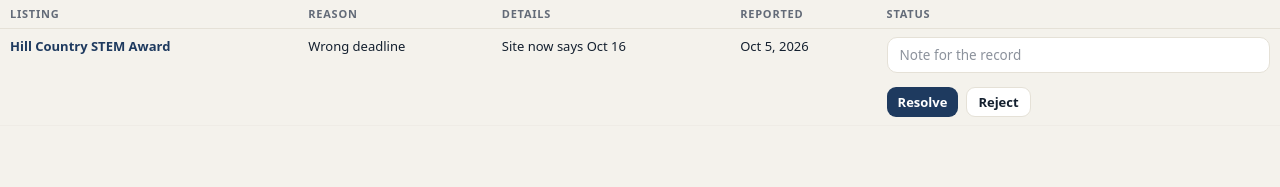
ReportsTable › shows a 409 as already closed: the message, disabled buttons, and a refresh (R3A-21)
Type "Deadline fixed" into the field named "Note for report on Hill Country STEM Award" at point(1078, 55), box [887,37,1270,73]
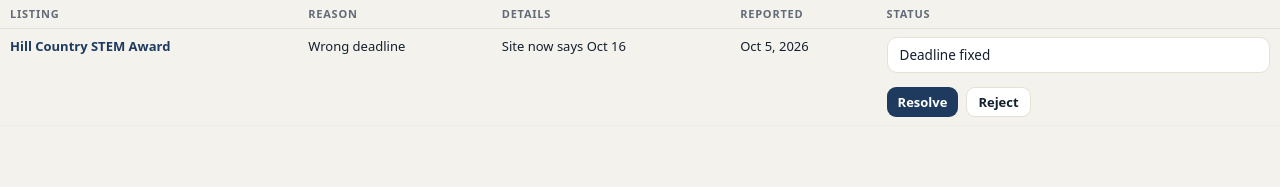
Click the button with aria-label "Reject report on Hill Country STEM Award" at point(999, 102), box [966,87,1031,117]
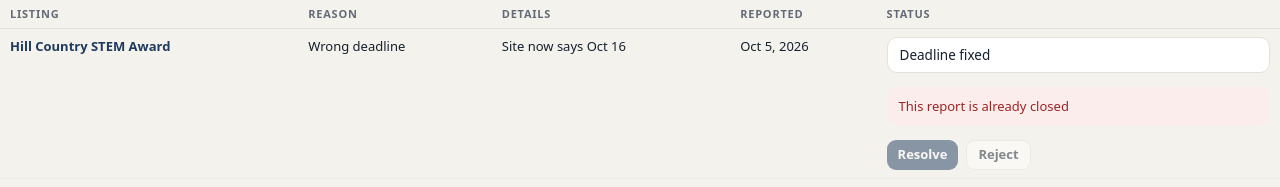
Result: the message reads "This report is already closed" at [899,97,1069,115]
Result: the button with aria-label "Resolve report on Hill Country STEM Award" is disabled at [887,140,958,170]
Result: the button with aria-label "Reject report on Hill Country STEM Award" is disabled at [966,140,1031,170]
